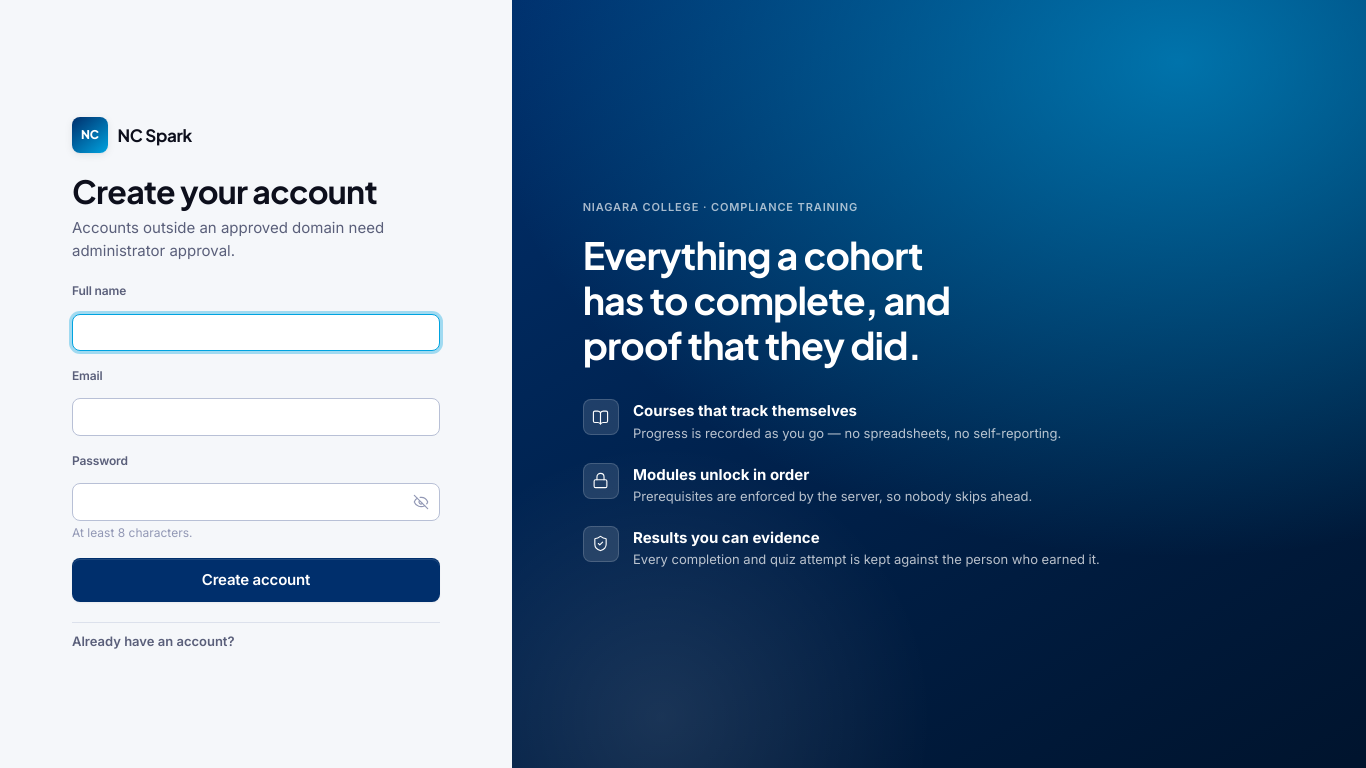
Scenario: creating the account › refuses a short password without asking the server
Type "Sam Reed" into the field labelled "Full name" at [256, 332], box [72,314,440,351]
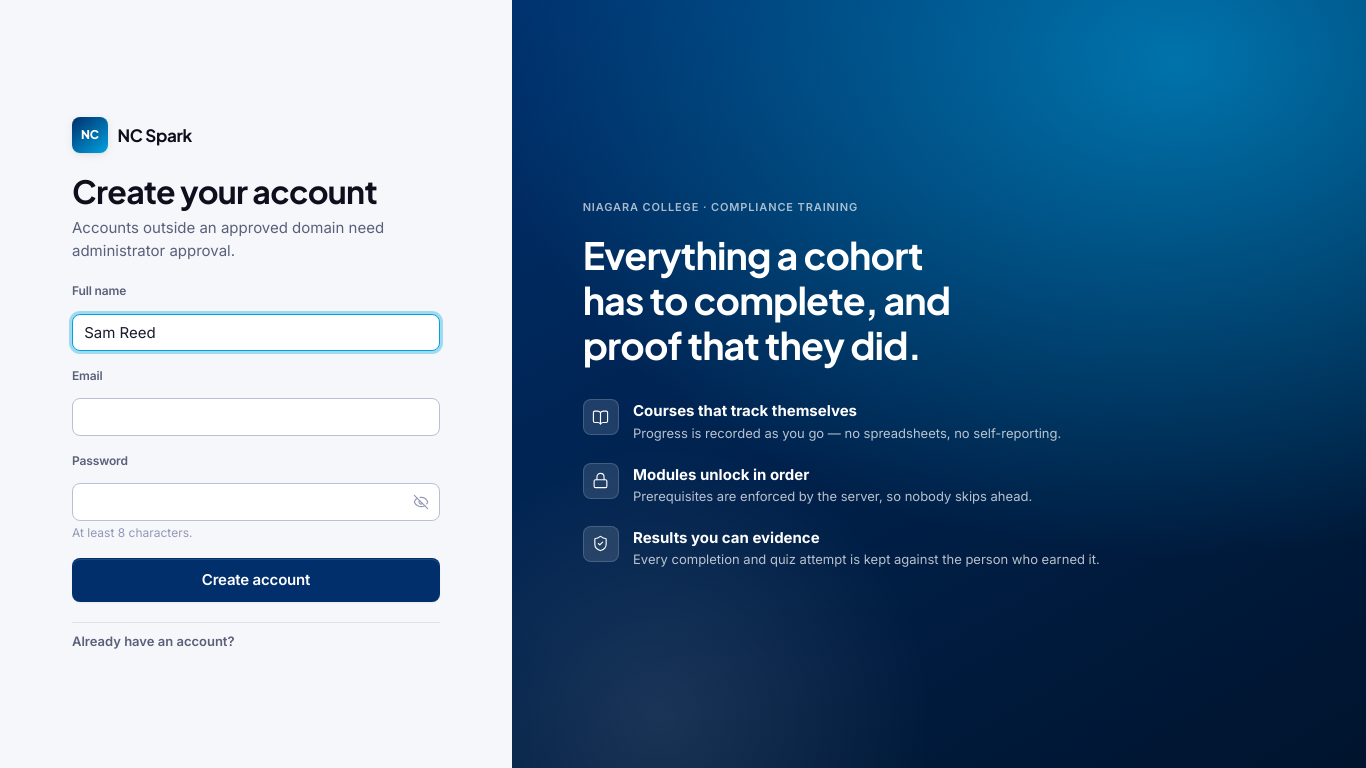
Type "sam@example.com" into the field labelled "Email" at [256, 417], box [72,398,440,436]
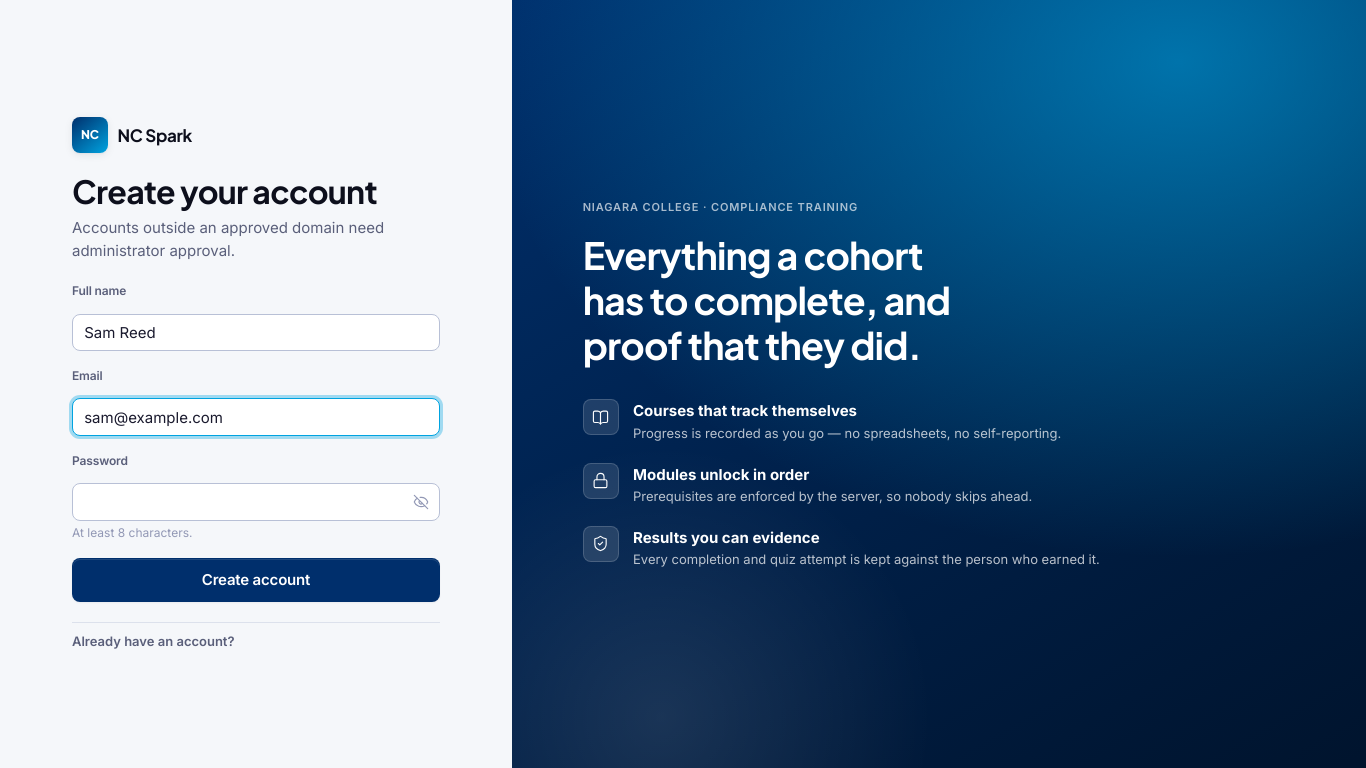
Type "short" into the password field labelled "Password" at [256, 502], box [72,483,440,521]
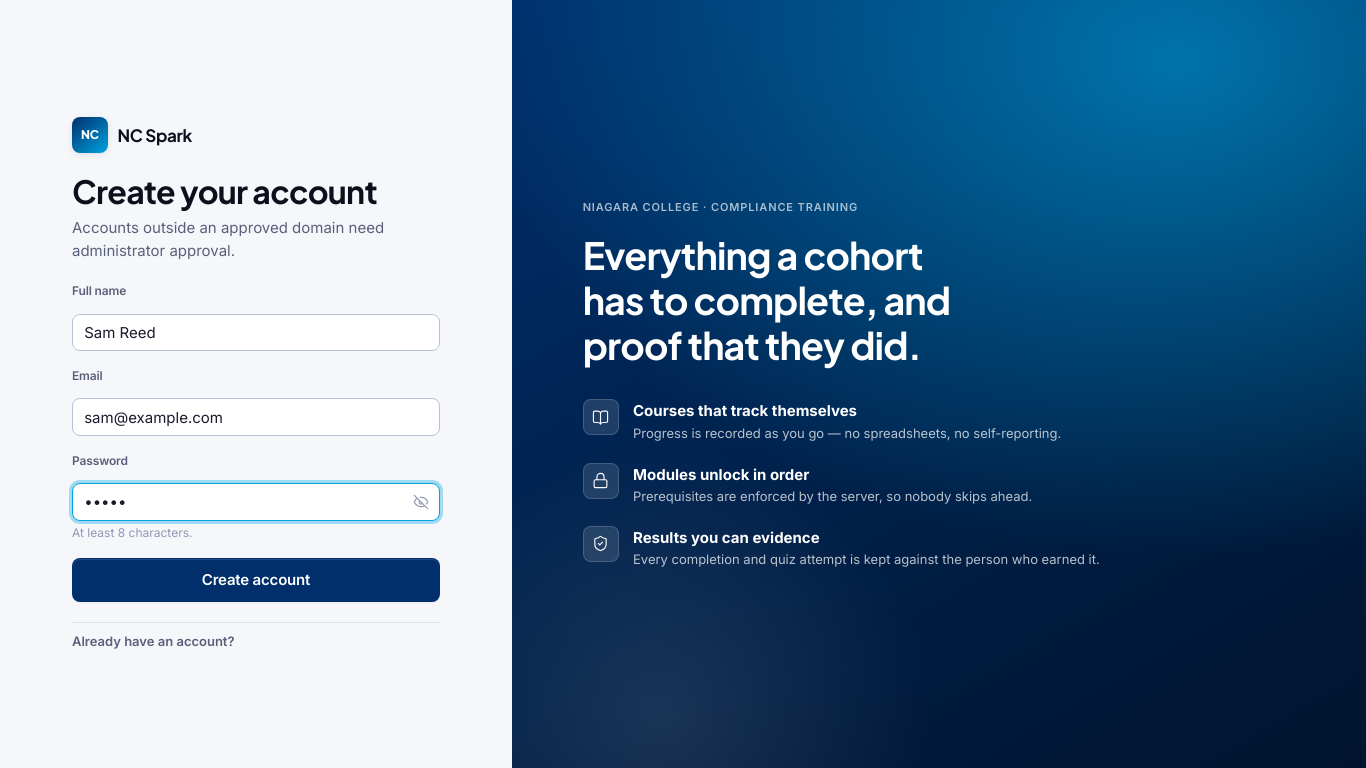
Click the button "Create account" at [256, 580], box [72,558,440,602]
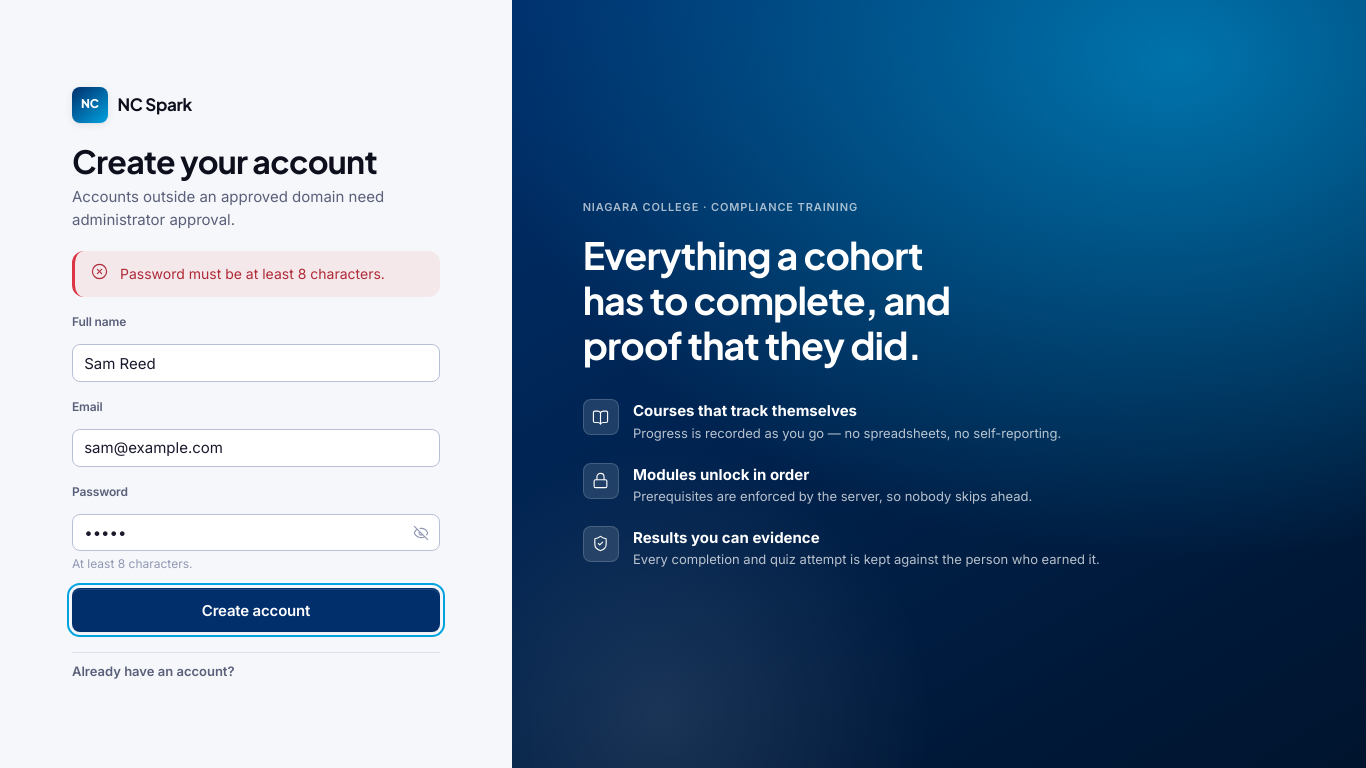
Check: the message reads "Password must be at least 8 characters.", box [120,265,385,282]
